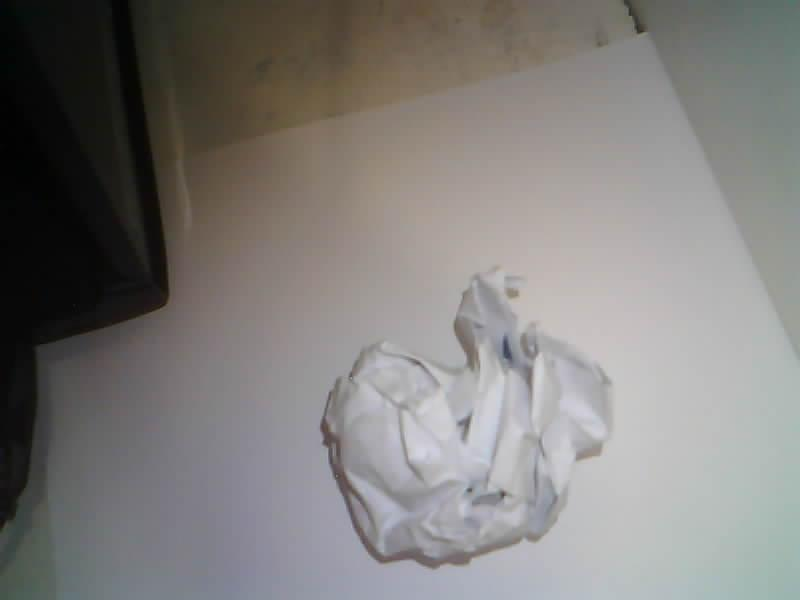biodegradable: (322, 269, 611, 564)
